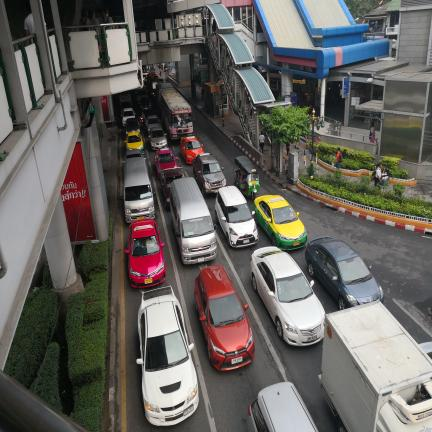bus: (156, 83, 193, 139), (157, 84, 193, 139), (157, 85, 160, 88)
car: (136, 286, 199, 425), (250, 246, 325, 346), (194, 265, 255, 370), (305, 236, 384, 309), (215, 186, 258, 247), (192, 153, 226, 197), (160, 167, 184, 210), (154, 148, 178, 178), (149, 127, 167, 150), (145, 115, 162, 136), (123, 147, 143, 162), (125, 117, 141, 135), (122, 107, 135, 127), (419, 341, 432, 358), (138, 96, 152, 111), (134, 87, 147, 100)
human: (24, 2, 35, 36), (79, 9, 93, 31), (374, 162, 382, 186), (101, 8, 113, 24), (89, 10, 99, 26), (259, 131, 265, 154), (336, 147, 342, 169), (369, 122, 375, 142), (212, 19, 217, 34), (93, 27, 100, 35), (201, 87, 205, 100), (286, 142, 290, 155), (24, 39, 30, 46), (98, 39, 101, 52), (105, 26, 114, 30)
taxi: (253, 195, 307, 250), (124, 219, 165, 288), (180, 134, 204, 162), (125, 130, 144, 154)
truck: (155, 82, 176, 108)
van: (170, 178, 216, 264), (121, 157, 155, 223)
